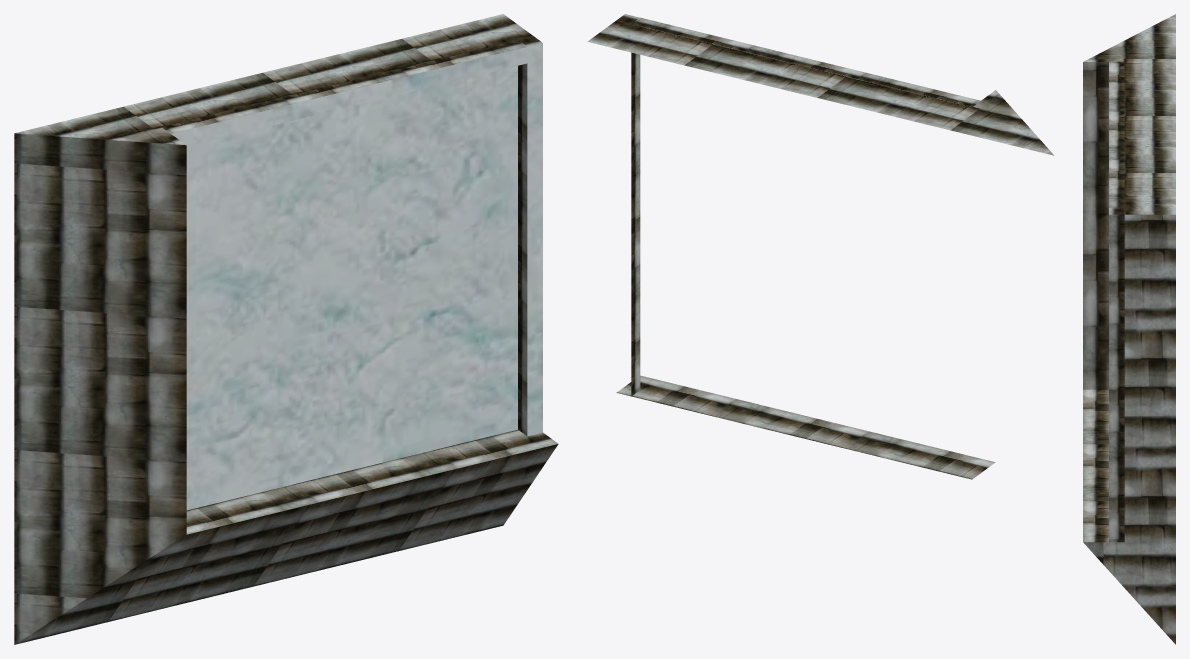
3 renders of one model, left to right at view 1: azimuth 30°, elevation 25°; view 2: azimuth 150°, elevation 25°; view 3: azimuth 270°, elevation 25°, orthographic. The views are drawn at different scales.
Parts seen in each view (by area): view 1: model_Object82; view 2: model_Object82; view 3: model_Object82.
Boxes of the visible parts, x1=… form: model_Object82: x1=14, y1=14, x2=558, y2=644; model_Object82: x1=587, y1=14, x2=1053, y2=479; model_Object82: x1=1083, y1=14, x2=1175, y2=644.
Size of the model in its own units: 4.6 by 4.6 by 0.9004.
2 materials, 2 textured.
